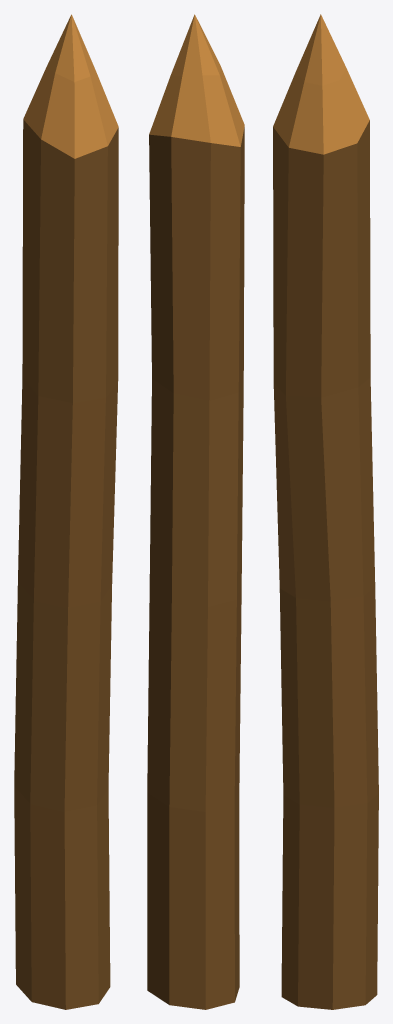
The model's file is viking s1.fbx.
3 renders of one model, left to right at view 1: azimuth 90°, elevation 25°; view 2: azimuth 150°, elevation 25°; view 3: azimuth 270°, elevation 25°, orthographic.
Parts seen in each view (by area): view 1: Cylinder.007; view 2: Cylinder.007; view 3: Cylinder.007.
Boxes of the visible parts, <box> form: Cylinder.007: <box>14,14,118,1009</box>; Cylinder.007: <box>147,14,244,1009</box>; Cylinder.007: <box>273,14,378,1009</box>.
Bounding box in the file's own units: 11.31 × 126 × 12.26.
